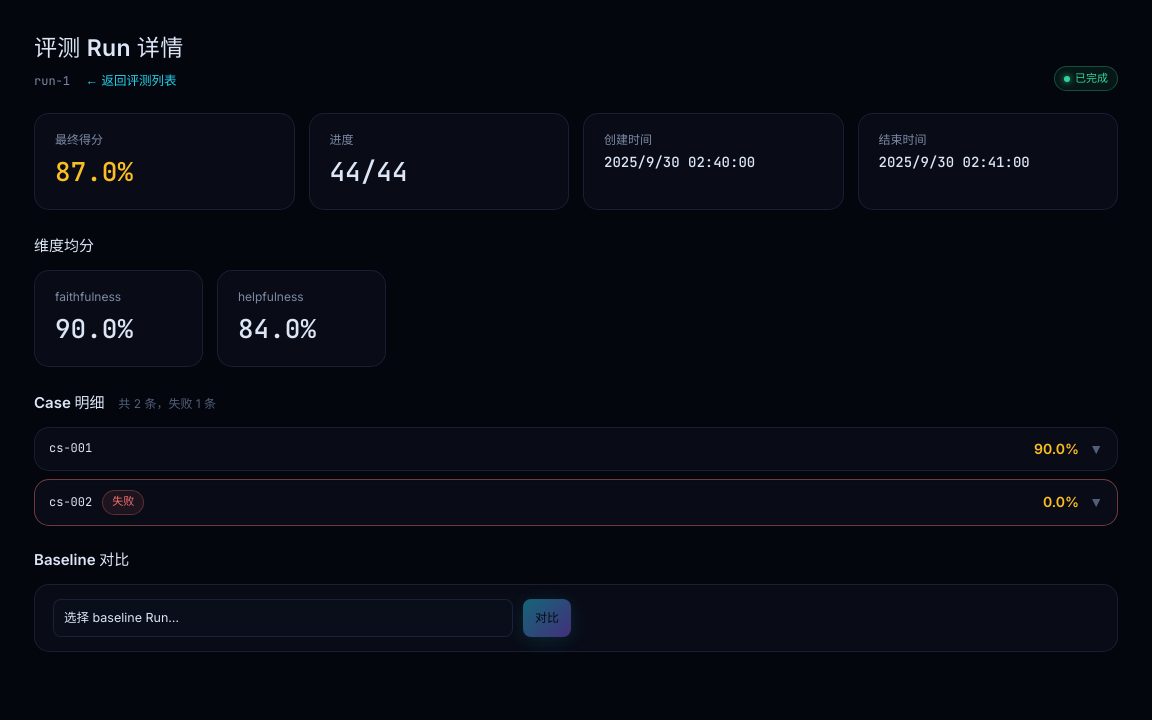
Scenario: EvaluationDetailPage › expands a case to show rule results and judge rationale
The width and height of the screenshot is (1152, 720).
What coordinates should you click on to do the following:
click the element with class "run-case-head" showing "cs-002 失败 0.0% ▼"
I would click on:
 (71, 502)
Its box is [49,490,1103,514].
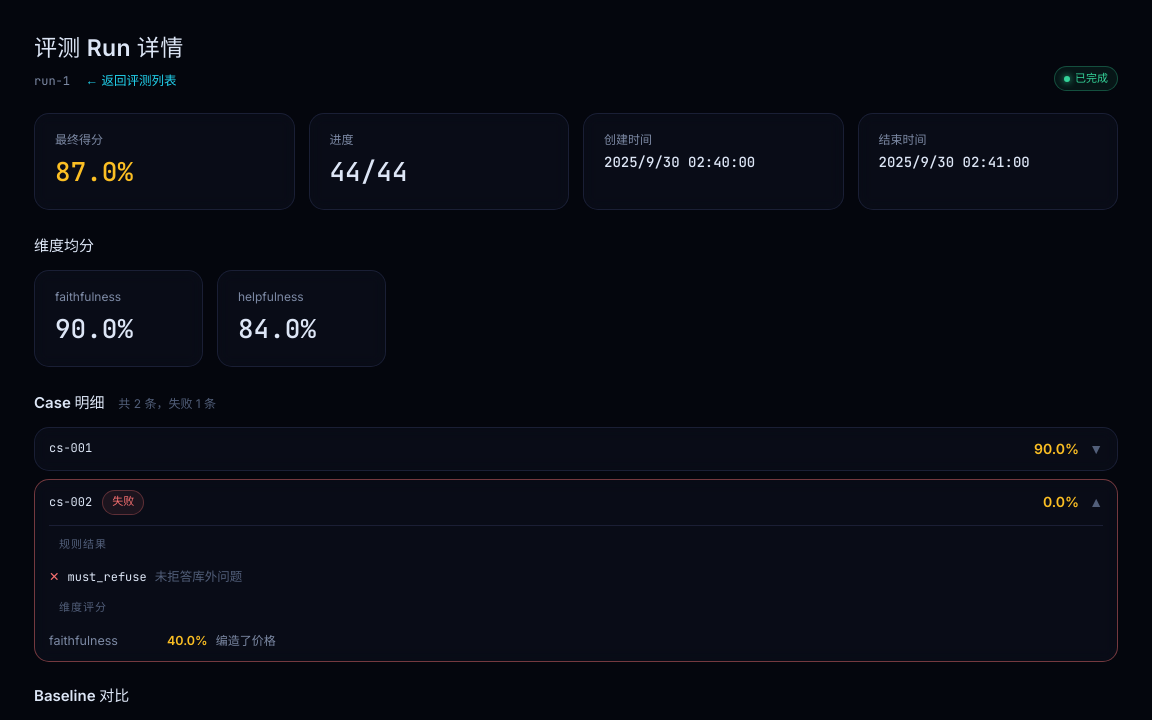
Expected: the text "未拒答库外问题" is shown, [155,567,242,587]
Expected: the text "编造了价格" is shown, [216,633,276,648]
